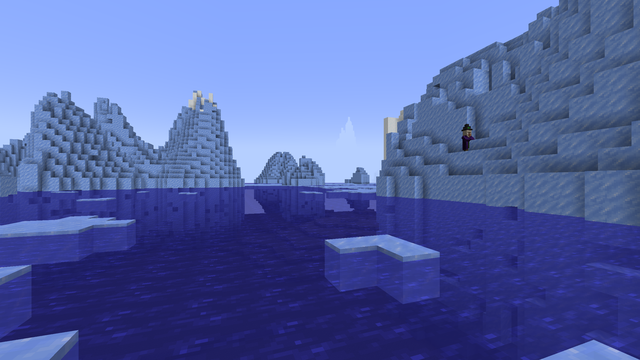sorcieres: (461, 128, 472, 146)
